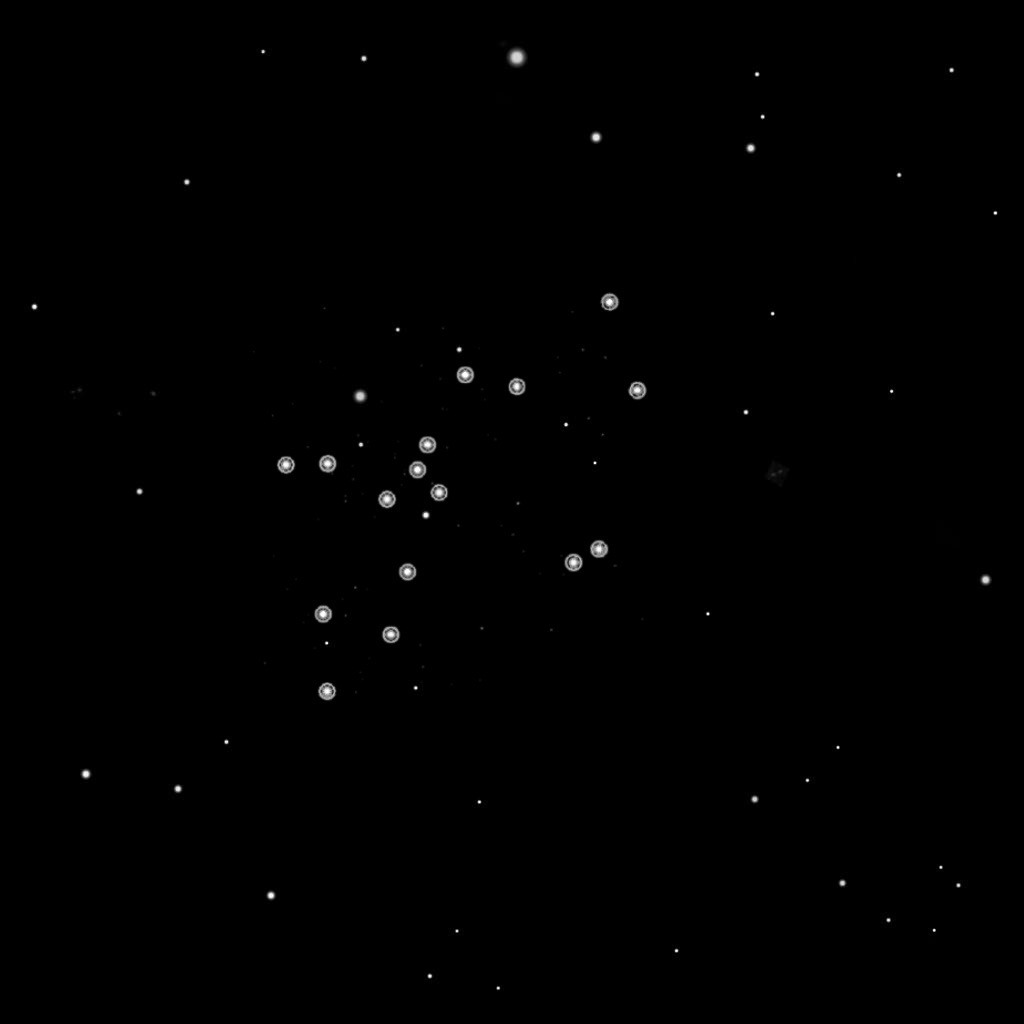canis_major: (374, 362, 528, 513)
